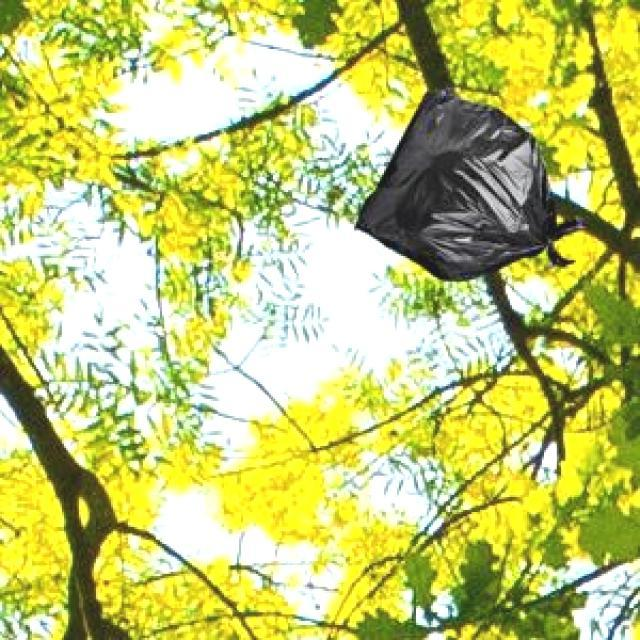Trashbag: (349, 72, 595, 289)
